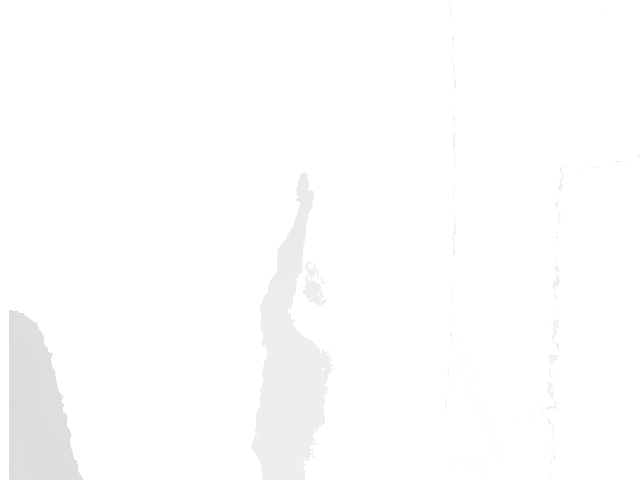hand: (295, 172, 316, 211)
head: (301, 261, 328, 309)
person: (250, 171, 332, 480)
